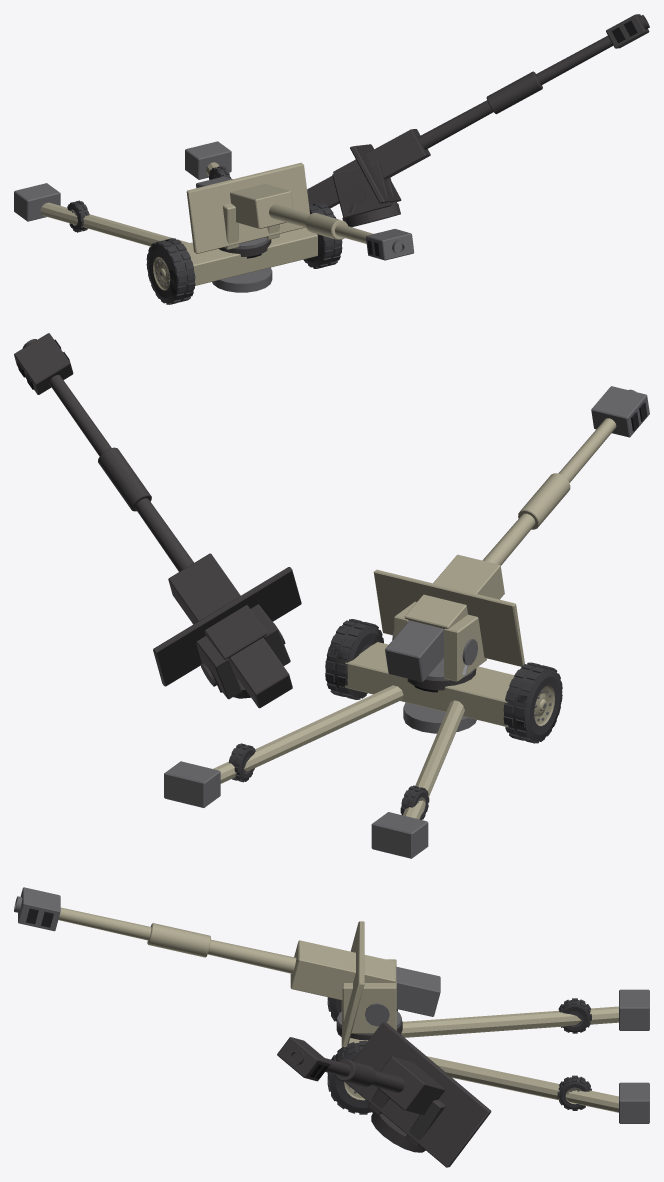
The model's file is towedHowitzer__kh179.glb.
3 views of the same model, one above another, from view 1: azimuth 30°, elevation 25°; view 2: azimuth 150°, elevation 25°; view 3: azimuth 270°, elevation 25° (orthographic). The views are drawn at different scales.
Parts seen in each view (by area): view 1: Wreck, Hull_Mesh, Turret_Mesh, Gun_Mesh, Wheel_L0_Mesh, Wheel_R0_Mesh, Wheel_L1_Mesh; view 2: Wreck, Hull_Mesh, Gun_Mesh, Turret_Mesh, Wheel_L0_Mesh, Wheel_R0_Mesh; view 3: Wreck, Gun_Mesh, Hull_Mesh, Turret_Mesh, Wheel_R0_Mesh, Wheel_L1_Mesh, Wheel_R1_Mesh.
Part boxes in pixels (<box>): Wreck: <box>157,14,649,302</box>; Hull_Mesh: <box>14,141,317,292</box>; Turret_Mesh: <box>186,162,309,253</box>; Gun_Mesh: <box>196,176,414,260</box>; Wheel_L0_Mesh: <box>146,238,195,304</box>; Wheel_R0_Mesh: <box>303,202,342,268</box>; Wheel_L1_Mesh: <box>67,200,89,232</box>; Wreck: <box>14,333,559,780</box>; Hull_Mesh: <box>164,642,514,858</box>; Gun_Mesh: <box>385,386,649,681</box>; Turret_Mesh: <box>373,569,524,681</box>; Wheel_L0_Mesh: <box>503,662,562,743</box>; Wheel_R0_Mesh: <box>325,619,383,699</box>; Wreck: <box>277,1015,491,1167</box>; Gun_Mesh: <box>14,887,440,1016</box>; Hull_Mesh: <box>341,989,649,1123</box>; Turret_Mesh: <box>337,921,401,1046</box>; Wheel_R0_Mesh: <box>327,1041,373,1114</box>; Wheel_L1_Mesh: <box>558,998,591,1033</box>; Wheel_R1_Mesh: <box>557,1075,591,1110</box>.
Size of what is drawn, in the model's own units: 7.98 by 3.24 by 8.21.
